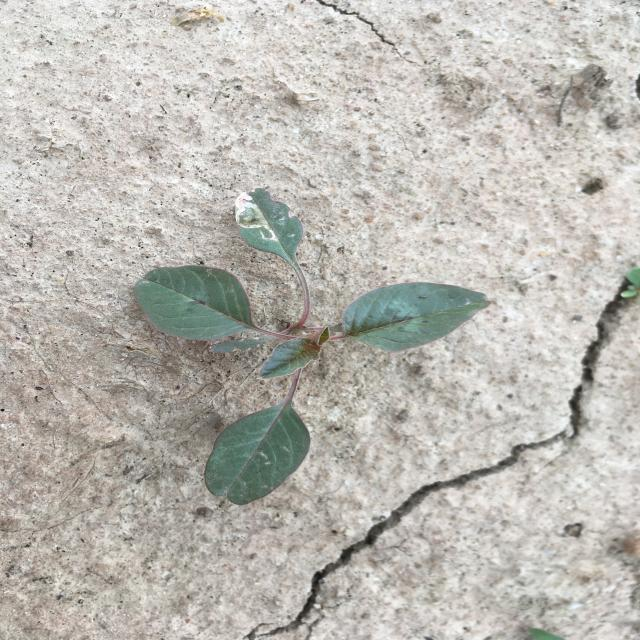PalmerAmaranth: (134, 188, 492, 504)
